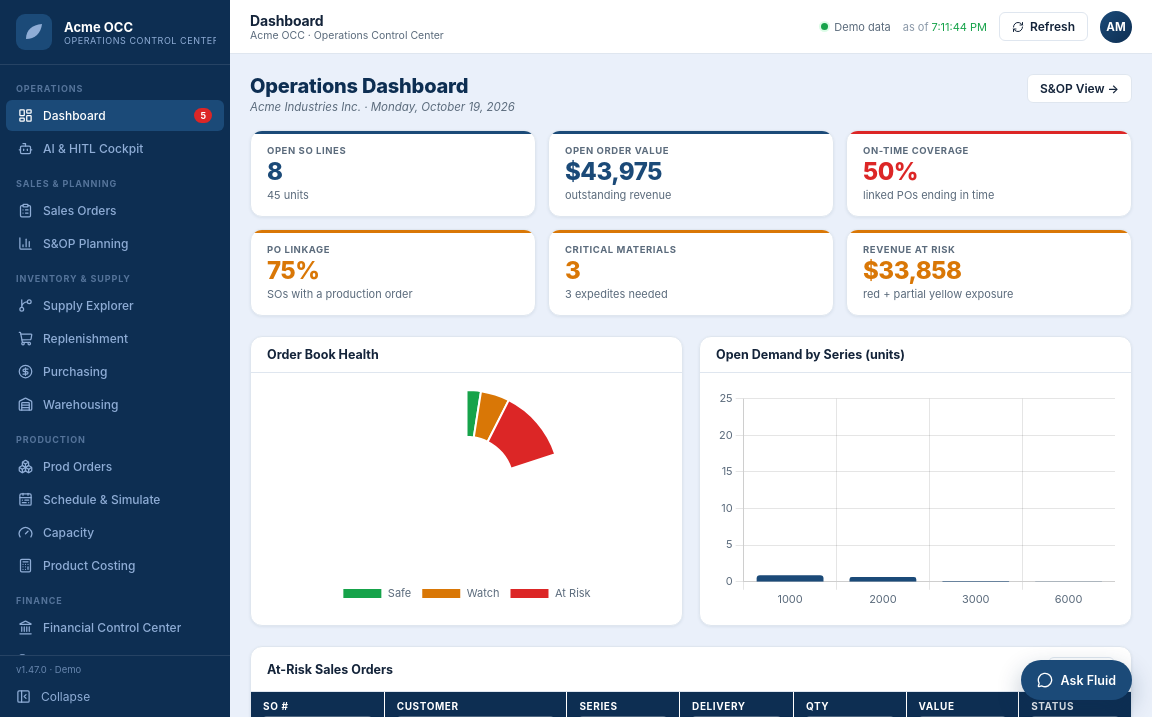
Test: AC-001 frame › profile popover shows the fixture user and an inert Sign out
Expected: the heading "Operations Dashboard" is shown, [250,74,468,98]
Click the button with aria-label "Profile". click: (1116,26)
box: [1100,10,1132,42]
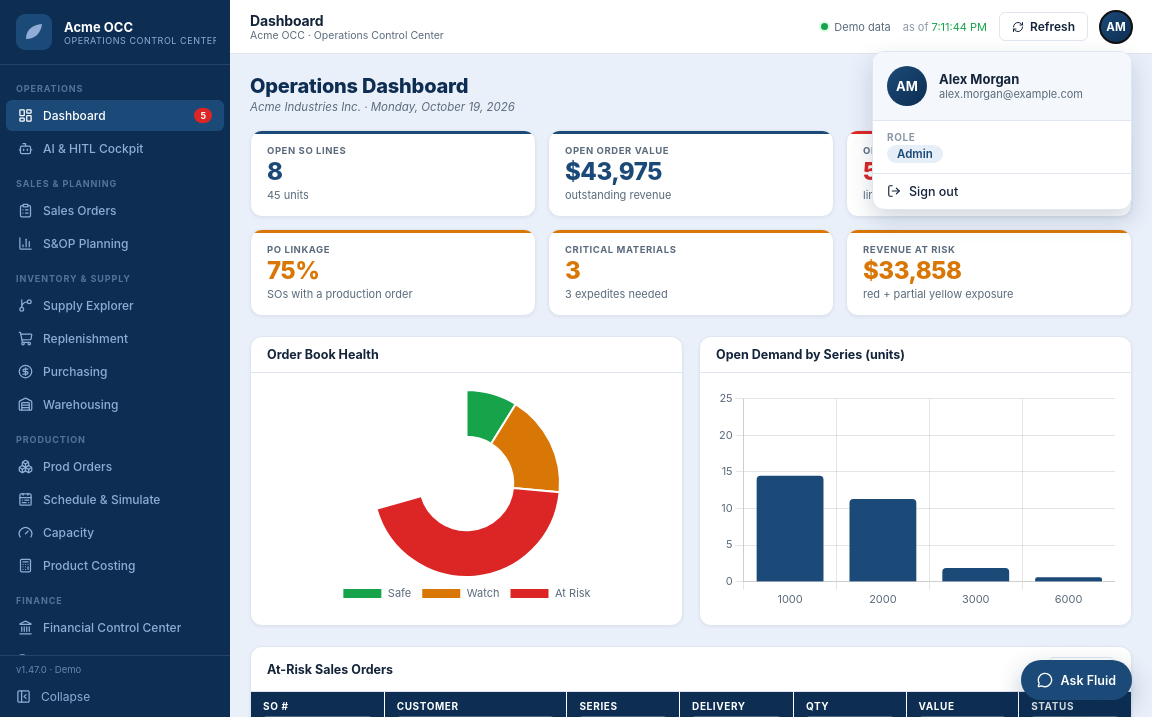
Now the text "Alex Morgan" is shown, box [939,70,1019,86]
Now the text "alex.morgan@example.com" is shown, box [939,86,1083,100]
Now the text "Role" is shown, box [887,130,915,142]
